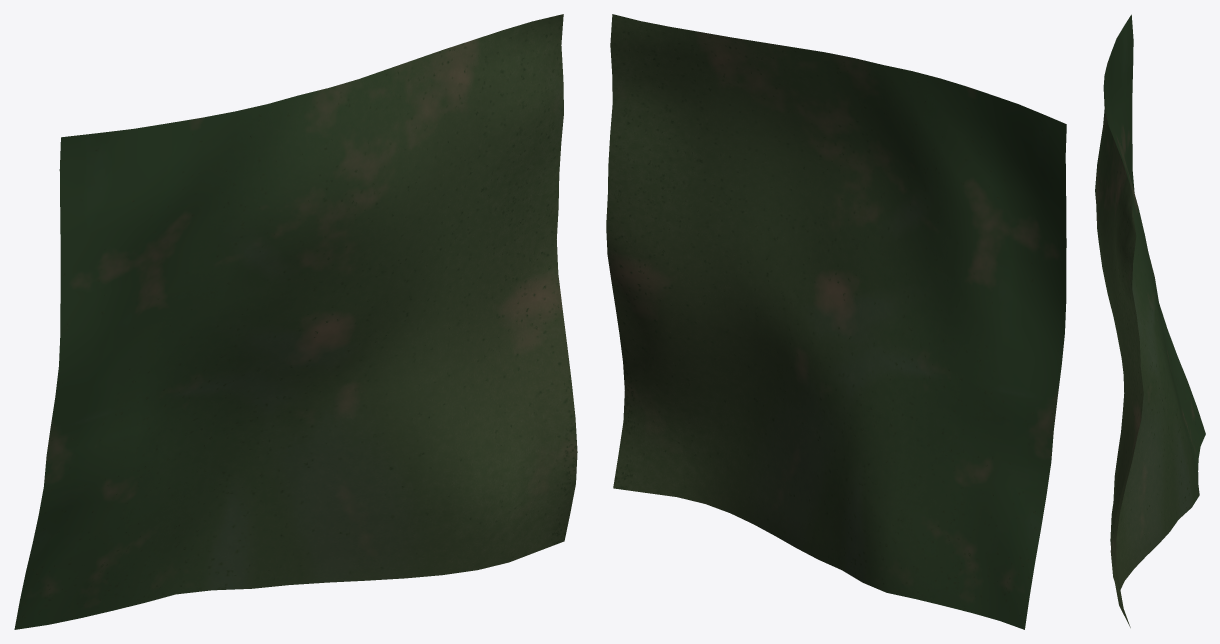
File: terrain_far_00_03.obj
3 views of the same model, side by side, from view 1: azimuth 30°, elevation 25°; view 2: azimuth 150°, elevation 25°; view 3: azimuth 270°, elevation 25° (orthographic). The views are drawn at different scales.
Visible parts, largest first — view 1: terrain_far_00_03; view 2: terrain_far_00_03; view 3: terrain_far_00_03.
Boxes of the visible parts, x1,y1,x2,y2 form: terrain_far_00_03: [14, 14, 577, 629]; terrain_far_00_03: [606, 14, 1066, 629]; terrain_far_00_03: [1095, 14, 1205, 627].
Size of the model in its own units: 640 by 640 by 153.
1 material, 1 textured.
